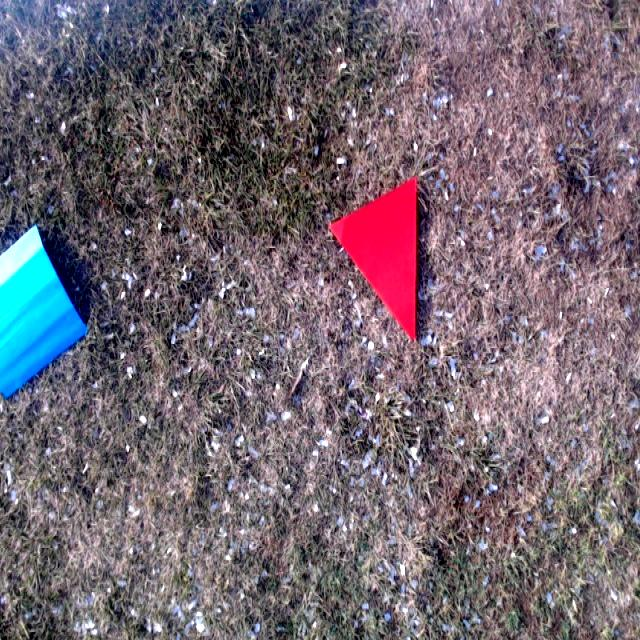red_triangle: (325, 174, 418, 344)
